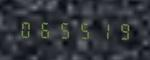five: (56, 19, 74, 39), (75, 20, 93, 40)
nine: (113, 20, 131, 40)
one: (94, 20, 112, 40)
six: (36, 19, 54, 39)
zero: (17, 19, 35, 39)
